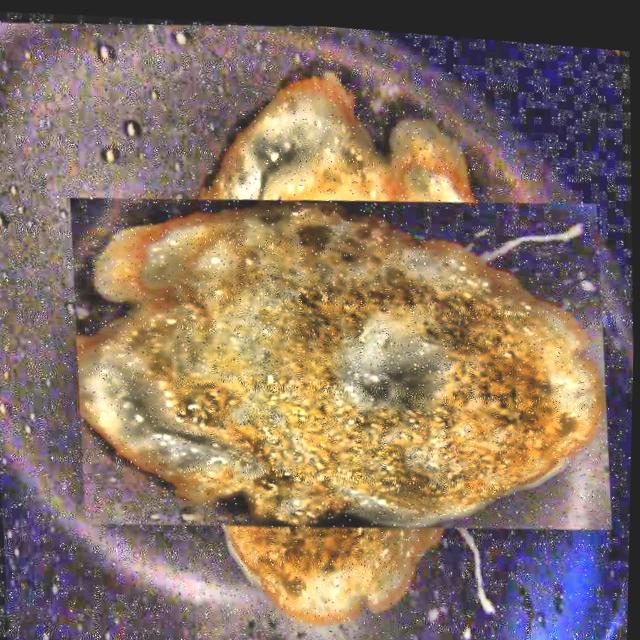Food: (110, 114, 574, 599)
